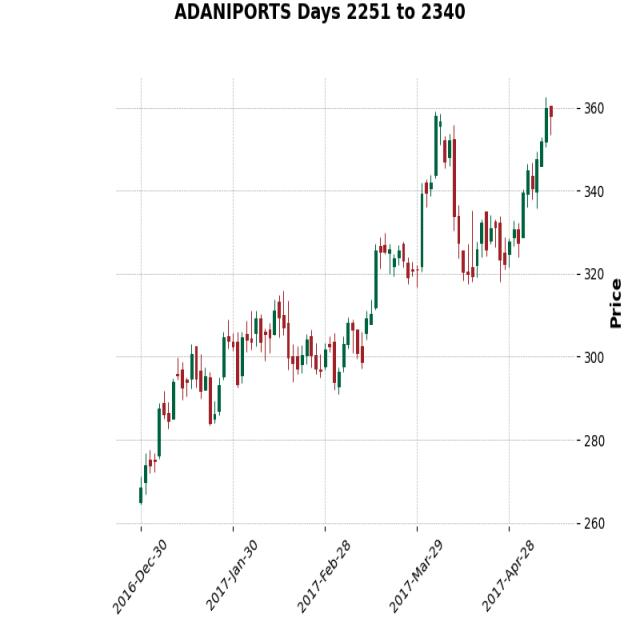Triple Bottom Reversal: (132, 283, 382, 436)
